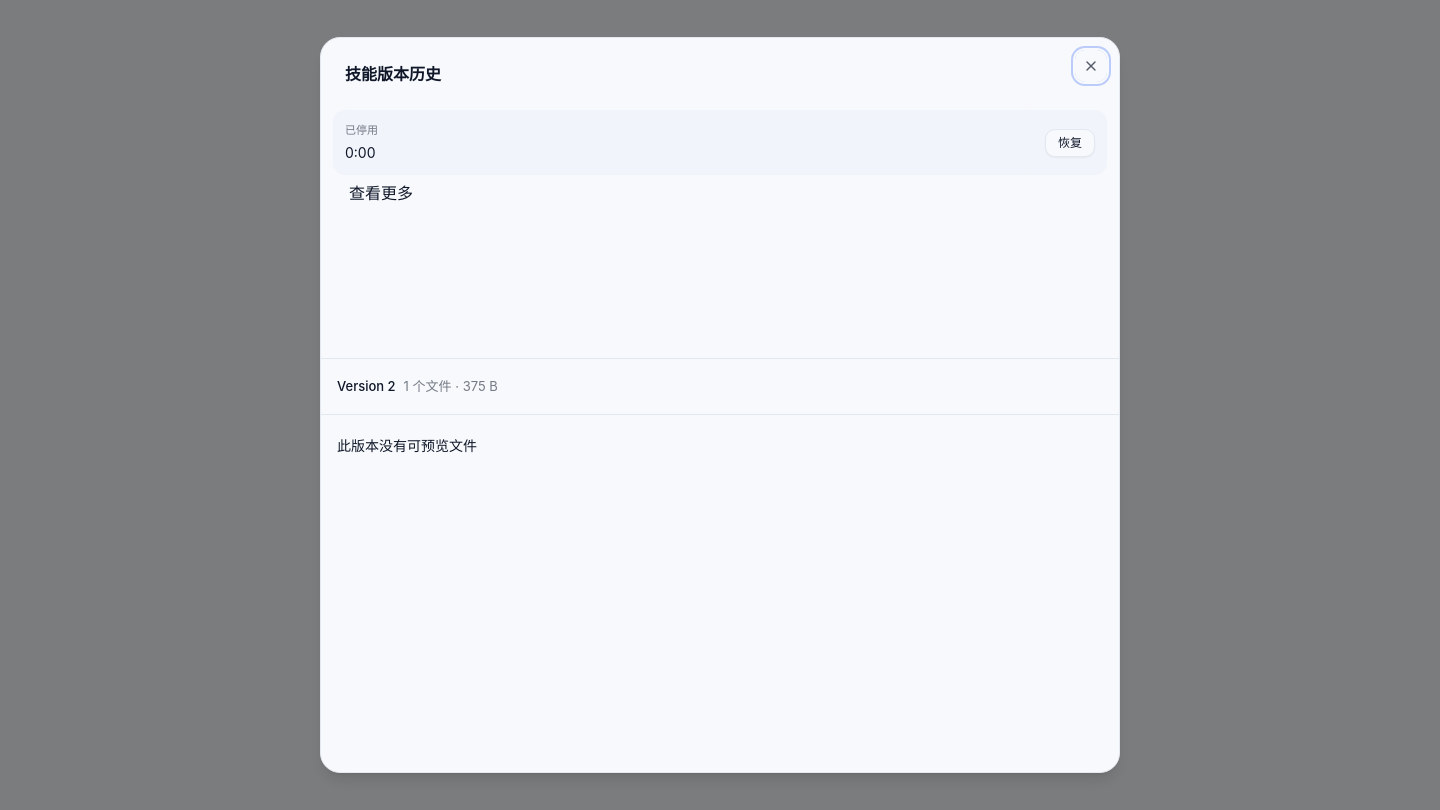
Test: does not mix a changed publication snapshot into retained history
This screenshot has width=1440, height=810.
expect the button named "版本 2" is shown: met, box [333,110,1037,175]
Click the button "查看更多". click: point(381, 193)
box: [333,175,429,211]
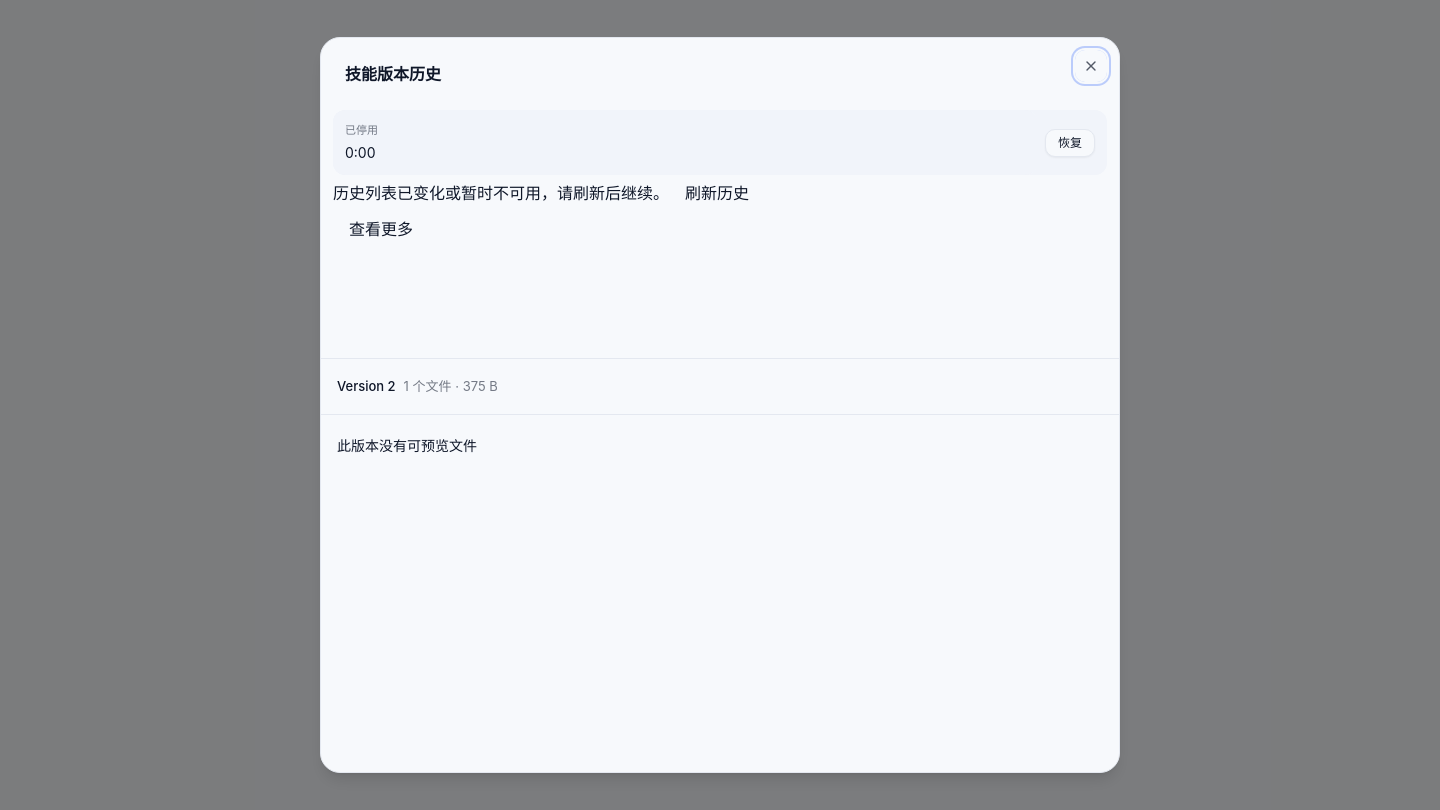
expect the message "历史列表已变化或暂时不可用，请刷新后继续。 刷新历史" is shown: met, box [333,175,765,211]
